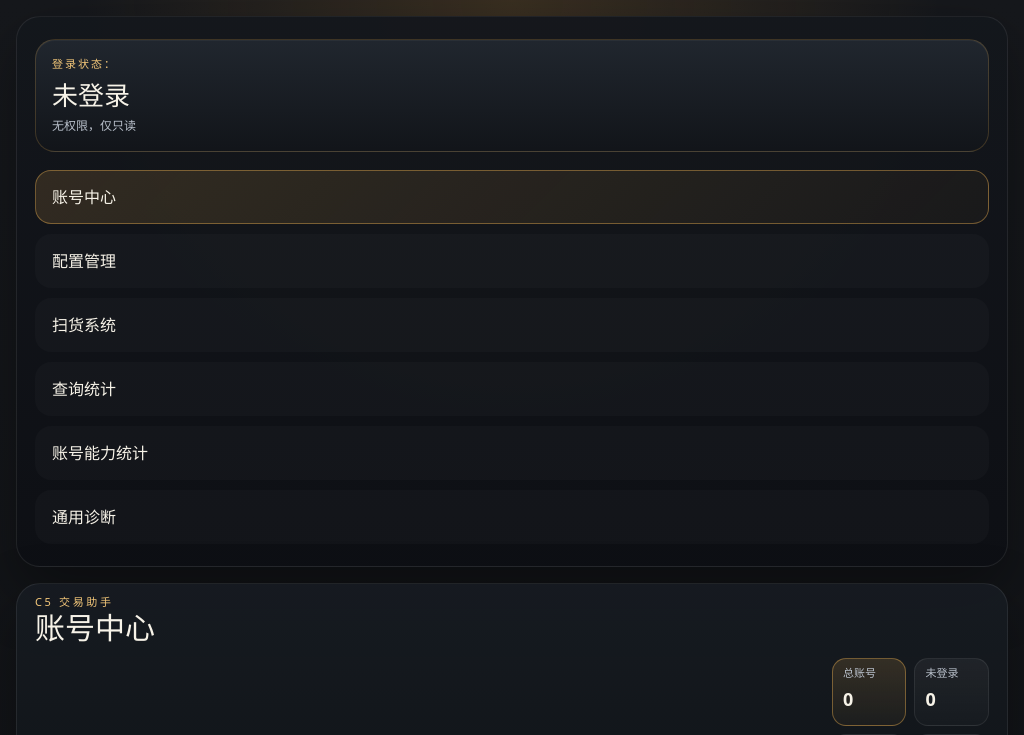
Test case: query stats page › auto refreshes query stats after the picker closes with a changed date
This screenshot has width=1024, height=735.
Click the button "查询统计". click: (84, 389)
box: [35,362,989,416]
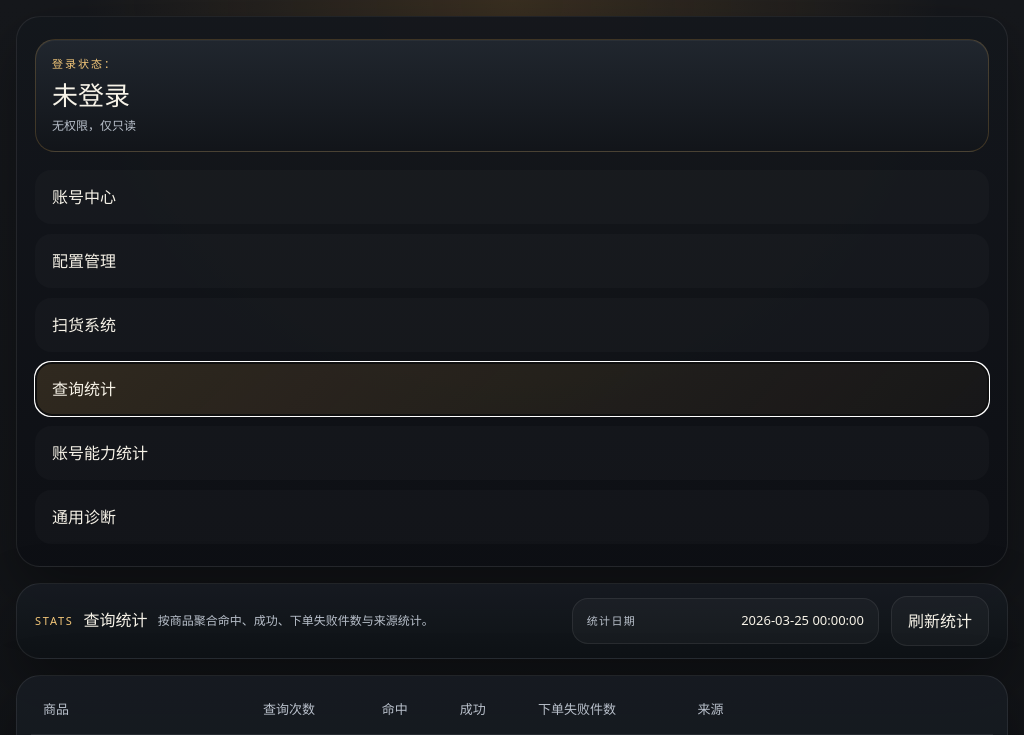
Click the button with aria-label "打开统计时间选择". click: (611, 620)
box: [572,598,879,644]
(page scrolled)
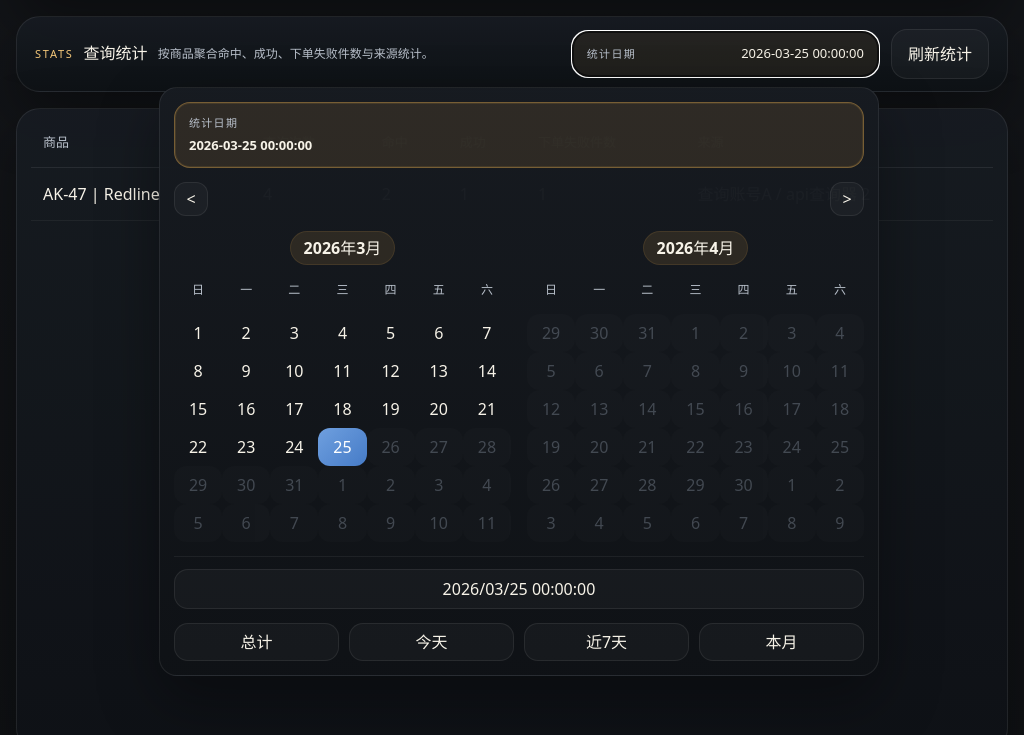
expect the dialog named "选择统计日期" is shown: met, box [159,87,879,676]
Click the button named "选择日期 2026-03-21". click: (487, 409)
box: [463,390,511,428]
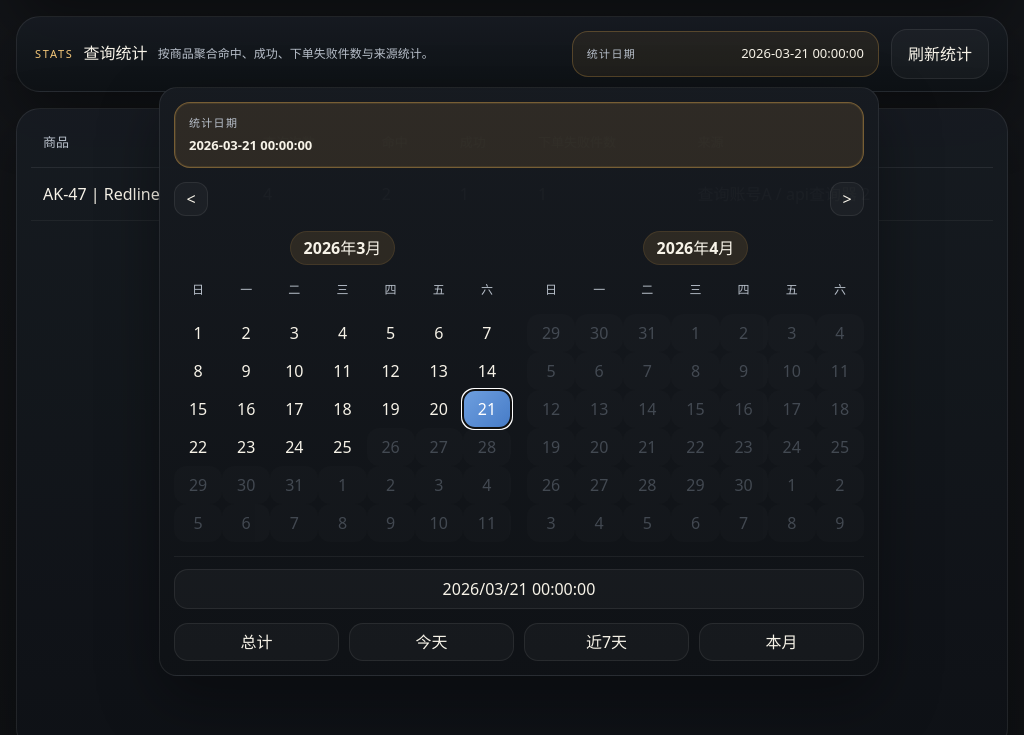
Click the text "按商品聚合命中、成功、下单失败件数与来源统计。". click: (296, 54)
box: [158,46,434,62]
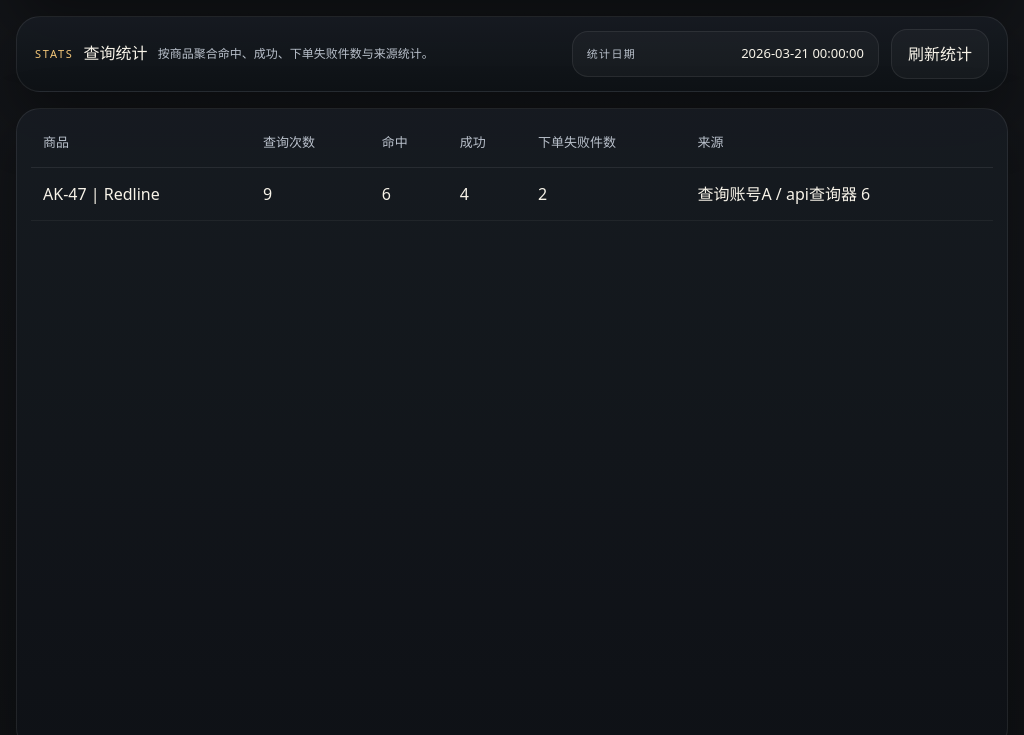
expect the dialog "选择统计日期" is gone: met
expect the text "9" is shown: met, box [251,167,370,220]
expect the text "6" is shown: met, box [370,167,448,220]
